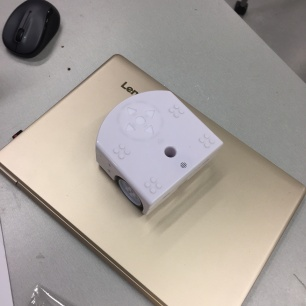thymio: (87, 90, 227, 217)
